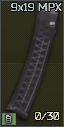MPX 9x19 30-round magazine: (0, 0, 64, 127)
